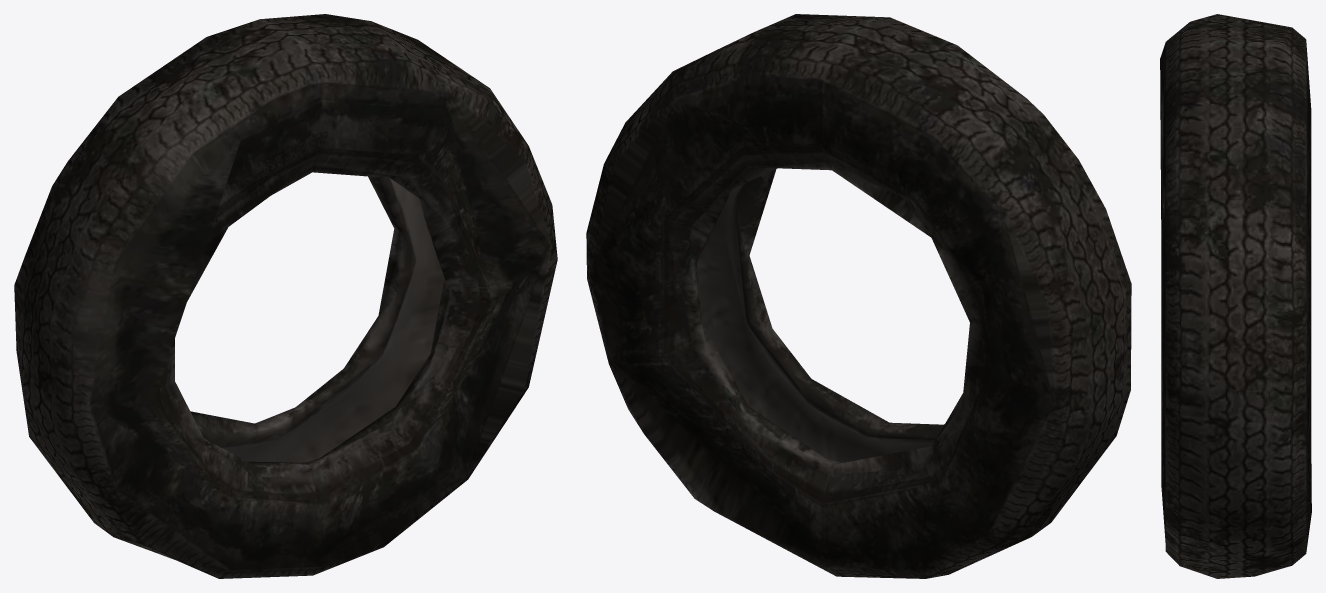
File: tyre.glb
3 views of the same model, side by side, from view 1: azimuth 30°, elevation 25°; view 2: azimuth 150°, elevation 25°; view 3: azimuth 270°, elevation 25° (orthographic). The views are drawn at different scales.
Visible parts, largest first — view 1: old_tyre; view 2: old_tyre; view 3: old_tyre.
Part boxes in pixels (<box>): old_tyre: <box>14,14,557,578</box>; old_tyre: <box>586,14,1131,578</box>; old_tyre: <box>1160,14,1311,578</box>.
Size of the model in its own units: 0.5873 by 0.6 by 0.161.
1 material, 1 textured.
